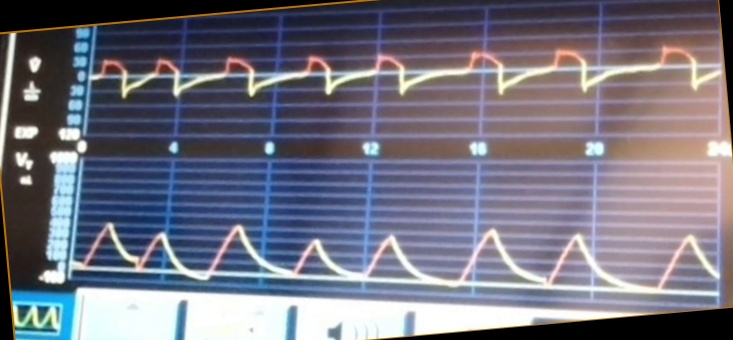Normal Flow: (95, 30, 718, 121)
Normal Volume: (77, 201, 718, 292)
